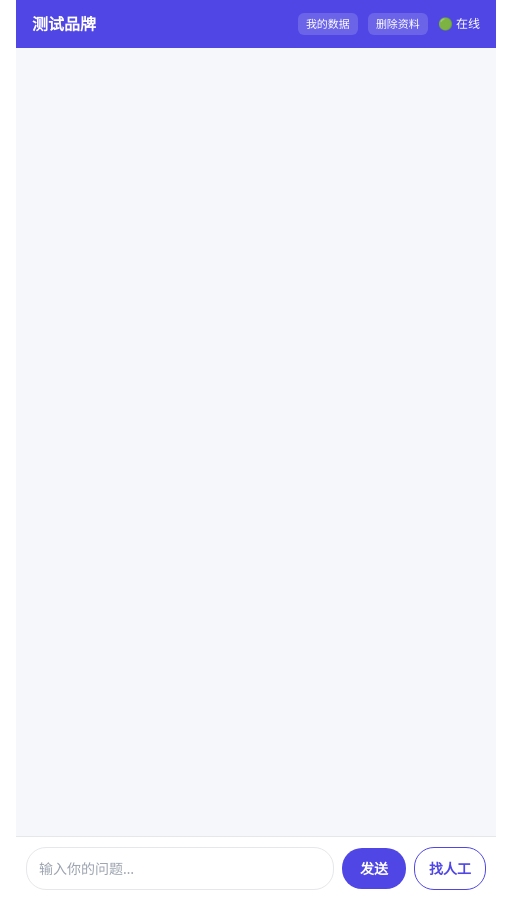
Scenario: Client 个人信息删除 › 访客可提交 customer 删除申请
Click the button with aria-label "申请删除我的资料". click: (398, 24)
box: [368,13,428,35]
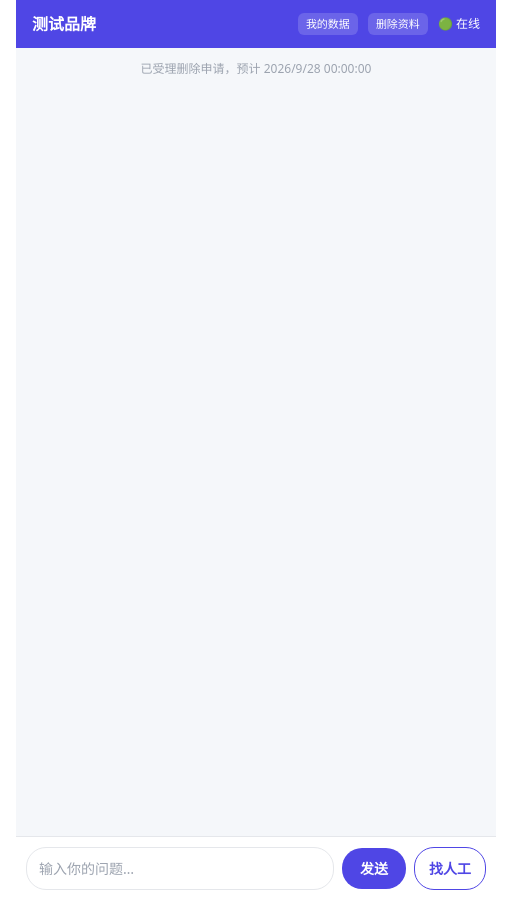
Now the text "已受理删除申请，预计 2026/9/28 00:00:00" is shown, box [141,60,371,77]
